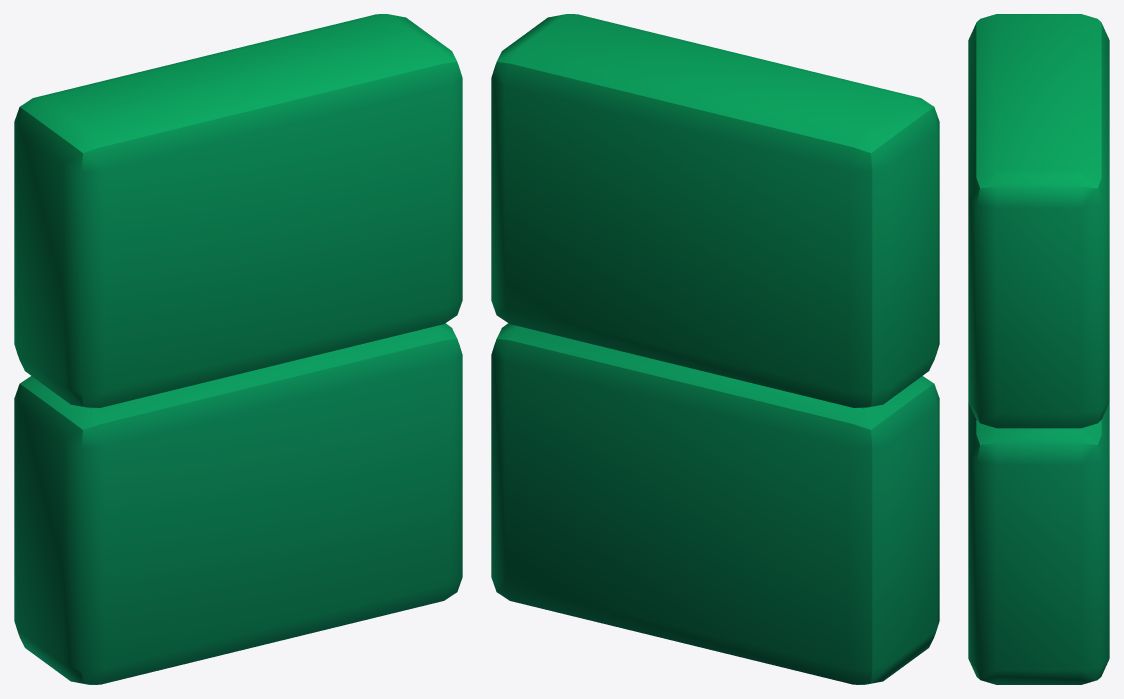
The model's file is barrier_3x1x4_green.glb.
The picture shows the model from 3 angles, left to right: view 1: azimuth 30°, elevation 25°; view 2: azimuth 150°, elevation 25°; view 3: azimuth 270°, elevation 25°; orthographic projection. The views are drawn at different scales.
Visible parts, largest first — view 1: barrier_3x1x4_green; view 2: barrier_3x1x4_green; view 3: barrier_3x1x4_green.
Boxes of the visible parts, x1,y1,x2,y2 form: barrier_3x1x4_green: (14,14,462,684); barrier_3x1x4_green: (491,14,939,684); barrier_3x1x4_green: (968,14,1109,684).
Bounding box in the file's own units: 3 × 4 × 1.
1 material, 1 textured.
